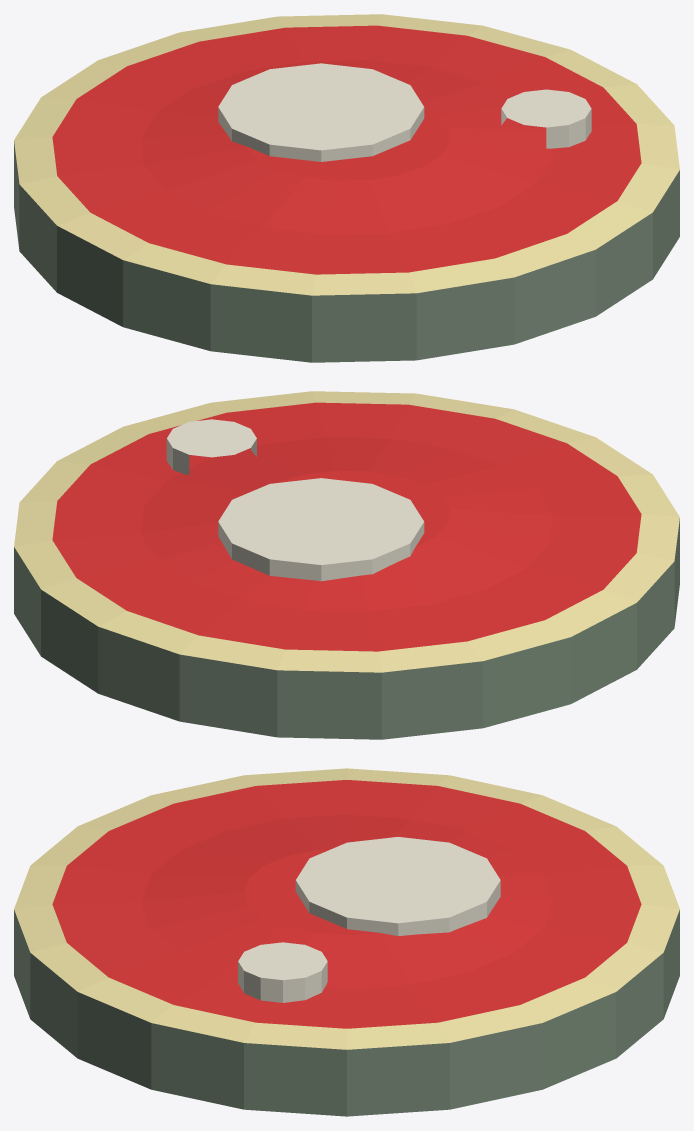
The model's file is cap_knee.glb.
3 renders of one model, top to bottom at view 1: azimuth 30°, elevation 25°; view 2: azimuth 150°, elevation 25°; view 3: azimuth 270°, elevation 25°, orthographic.
Parts seen in each view (by area): view 1: OUT; view 2: OUT; view 3: OUT.
Part boxes in pixels (x1,y1,x2,y2): OUT: (14, 14, 679, 362); OUT: (14, 391, 679, 739); OUT: (14, 768, 679, 1116).
Size of the model in its own units: 0.104 by 0.0165 by 0.104.
